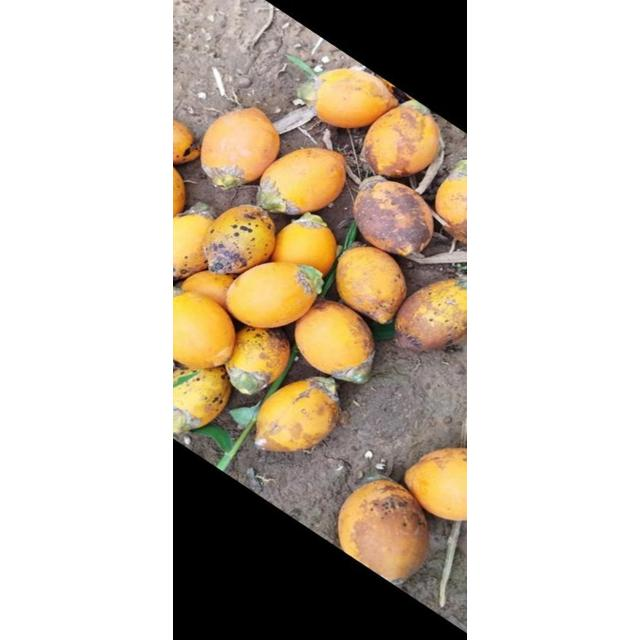good: (337, 478, 429, 576), (294, 300, 374, 380), (200, 109, 280, 188), (354, 178, 434, 256), (226, 262, 320, 328), (254, 378, 340, 450), (258, 148, 346, 216), (363, 106, 441, 178), (394, 276, 466, 352), (336, 246, 406, 324), (202, 204, 276, 276), (315, 68, 397, 128), (173, 290, 235, 368), (224, 324, 290, 394), (403, 448, 465, 520), (272, 214, 336, 278), (173, 364, 231, 432), (174, 204, 216, 282), (182, 270, 238, 312), (174, 118, 202, 164), (173, 160, 187, 220), (179, 201, 217, 219), (357, 469, 397, 486), (173, 408, 197, 434), (296, 78, 320, 102), (357, 174, 387, 192), (342, 241, 368, 253)
